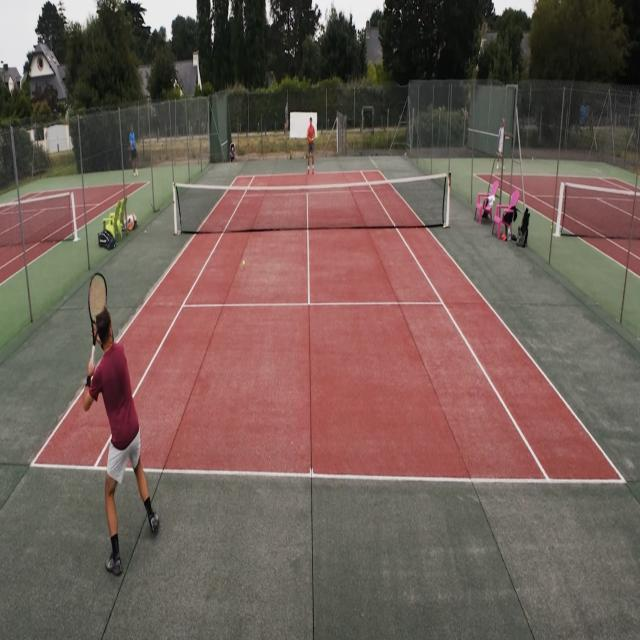ball: (242, 260, 245, 268), (144, 230, 147, 234), (235, 162, 237, 166)
